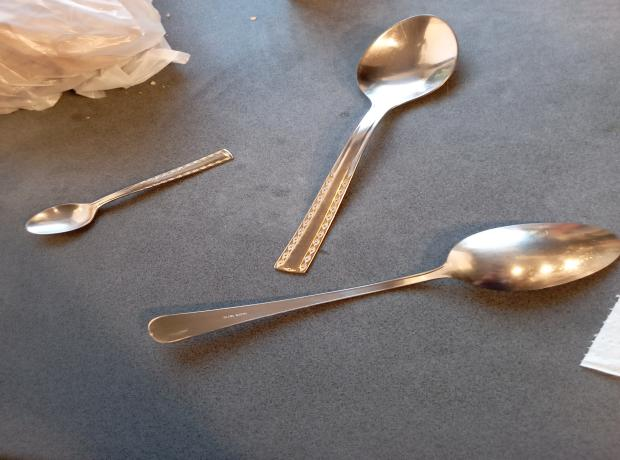metal: (144, 220, 620, 344), (275, 14, 460, 275), (25, 148, 237, 238)
